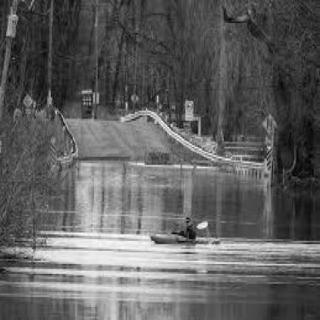other: (147, 230, 225, 253)
